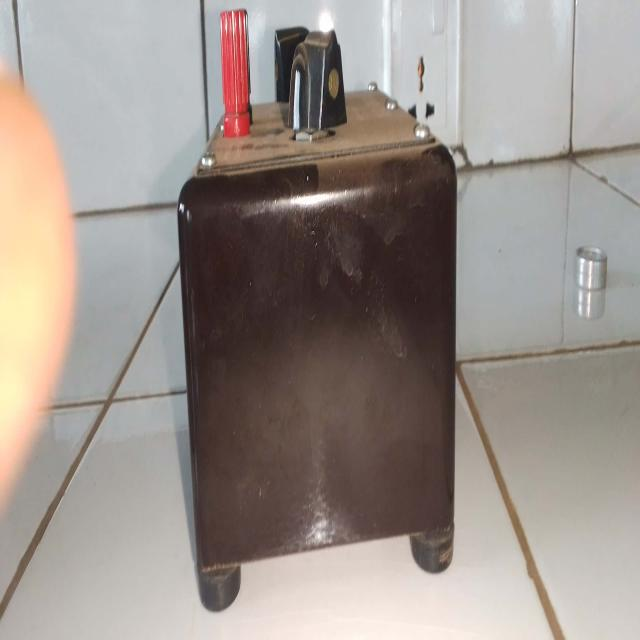Decade Capacitance Box: (174, 1, 465, 603)
